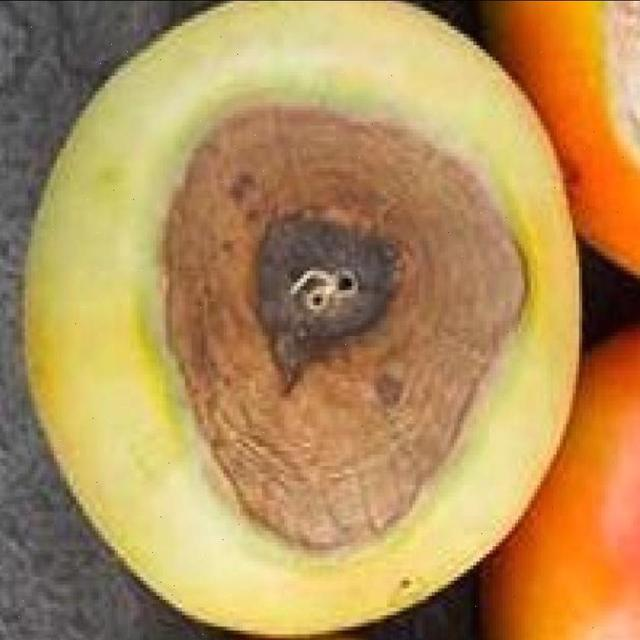Blossom End Rot Fruit: (28, 54, 413, 312)
